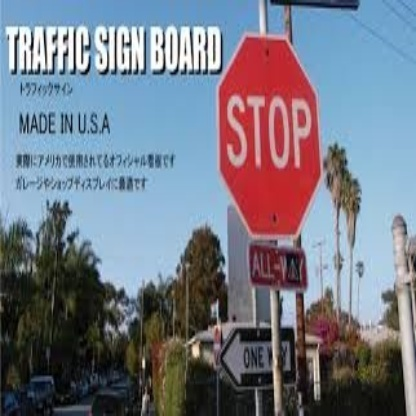stop: (218, 35, 324, 242)
